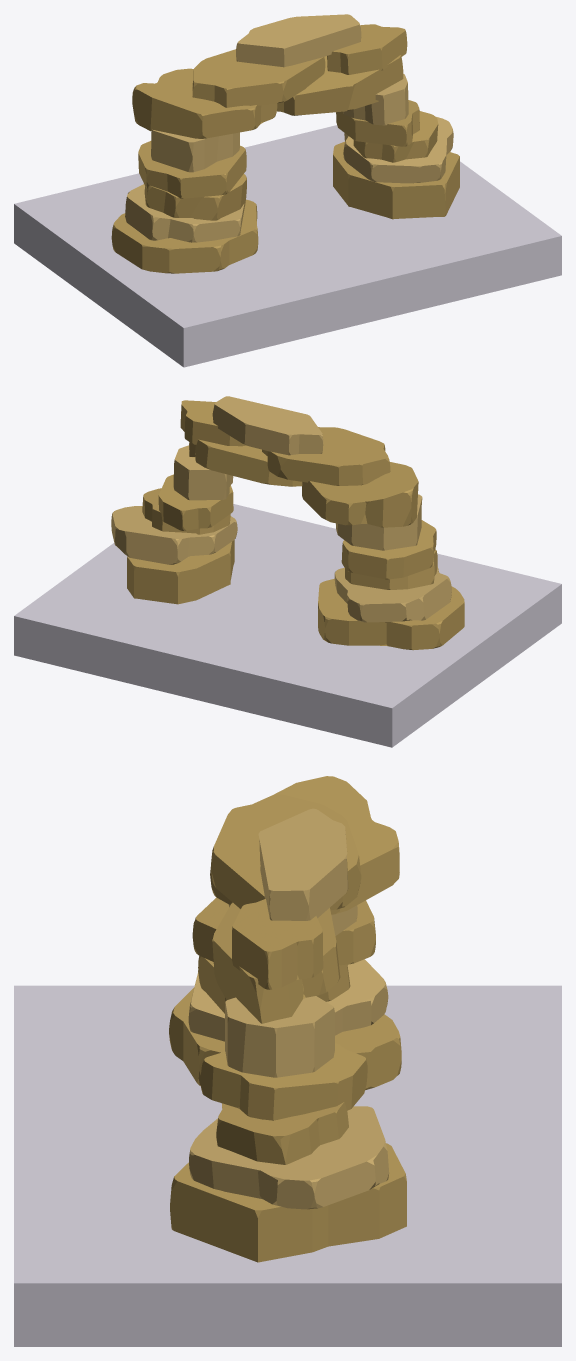
The model's file is desert_stone_gate.fbx.
3 views of the same model, one above another, from view 1: azimuth 30°, elevation 25°; view 2: azimuth 150°, elevation 25°; view 3: azimuth 270°, elevation 25° (orthographic). The views are drawn at different scales.
Parts seen in each view (by area): view 1: Cube.035, stone gate; view 2: Cube.035, stone gate; view 3: Cube.035, stone gate.
Boxes of the visible parts, <box> form: Cube.035: <box>14,125,561,367</box>; stone gate: <box>111,14,459,273</box>; Cube.035: <box>14,504,561,747</box>; stone gate: <box>111,396,464,650</box>; Cube.035: <box>14,985,561,1346</box>; stone gate: <box>169,776,406,1262</box>.
Bounding box in the file's own units: 244 × 138 × 190.
